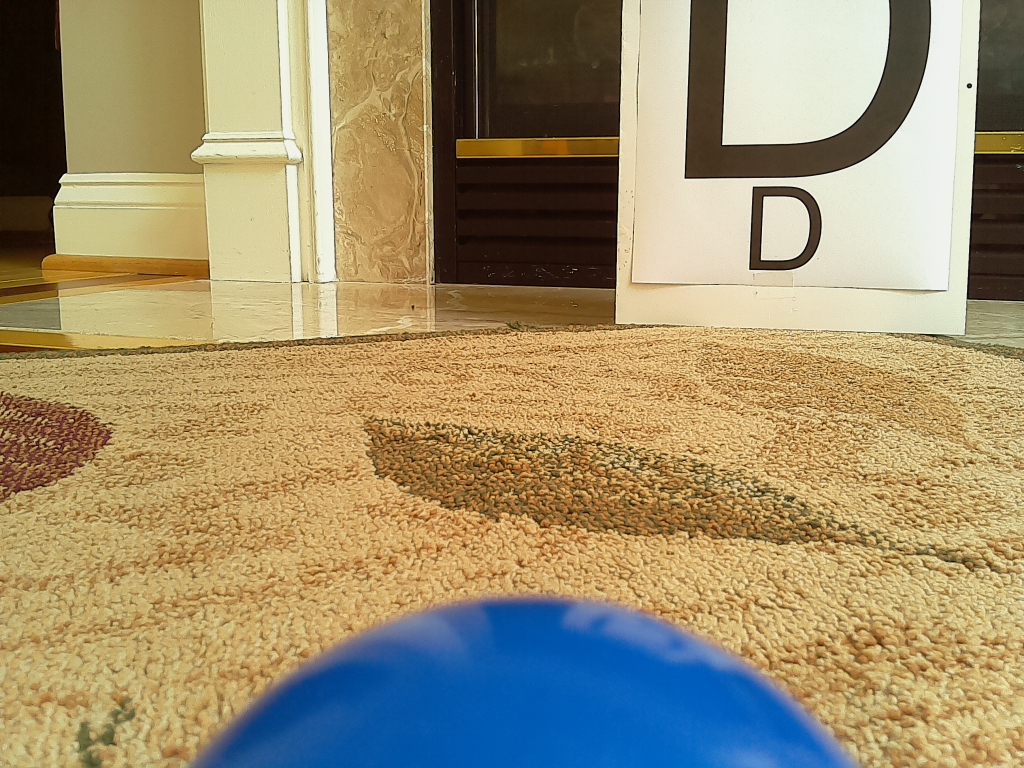letter: (753, 185, 821, 270)
